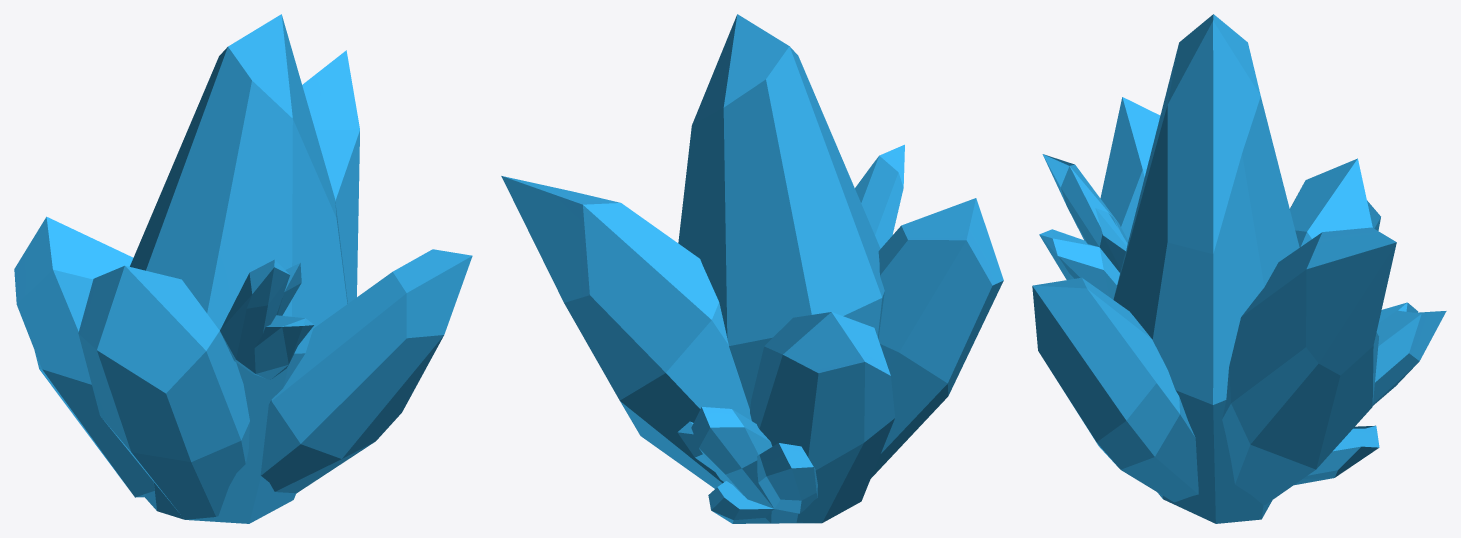
The model's file is kristall.fbx.
3 views of the same model, side by side, from view 1: azimuth 30°, elevation 25°; view 2: azimuth 150°, elevation 25°; view 3: azimuth 270°, elevation 25° (orthographic). The views are drawn at different scales.
Visible parts, largest first — view 1: Cube; view 2: Cube; view 3: Cube.
Part boxes in pixels (bbox=[...]): Cube: bbox=[14, 14, 472, 523]; Cube: bbox=[501, 14, 1003, 523]; Cube: bbox=[1032, 14, 1446, 523].
Bounding box in the file's own units: 2.98 × 3.6 × 2.67.
